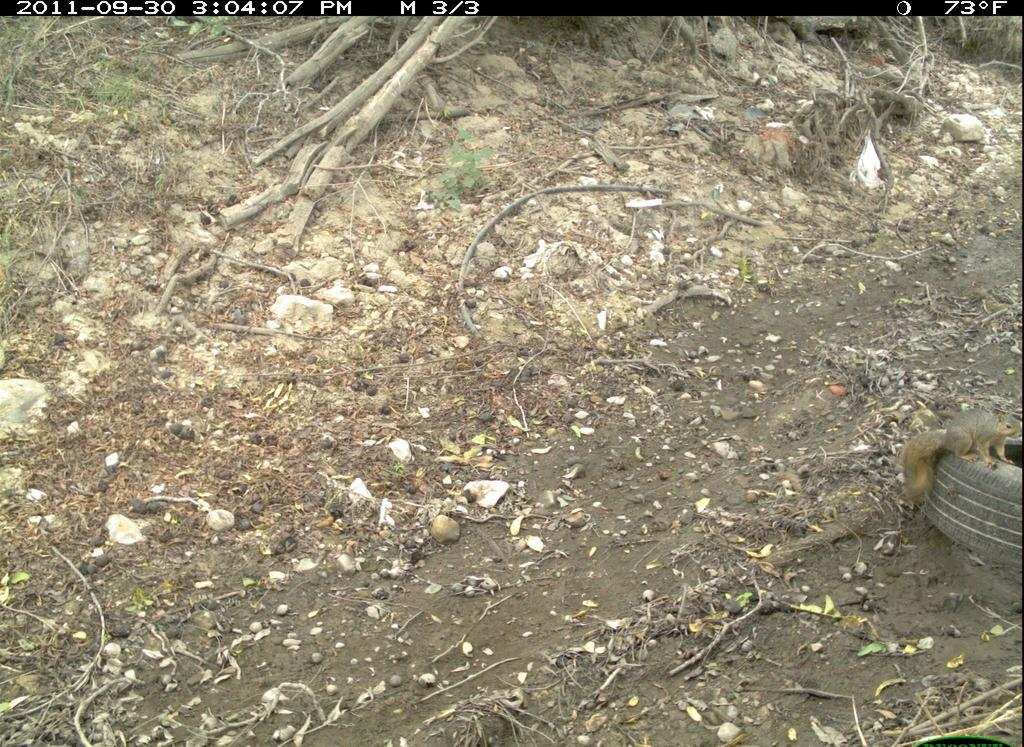squirrel: (895, 388, 1022, 505)
